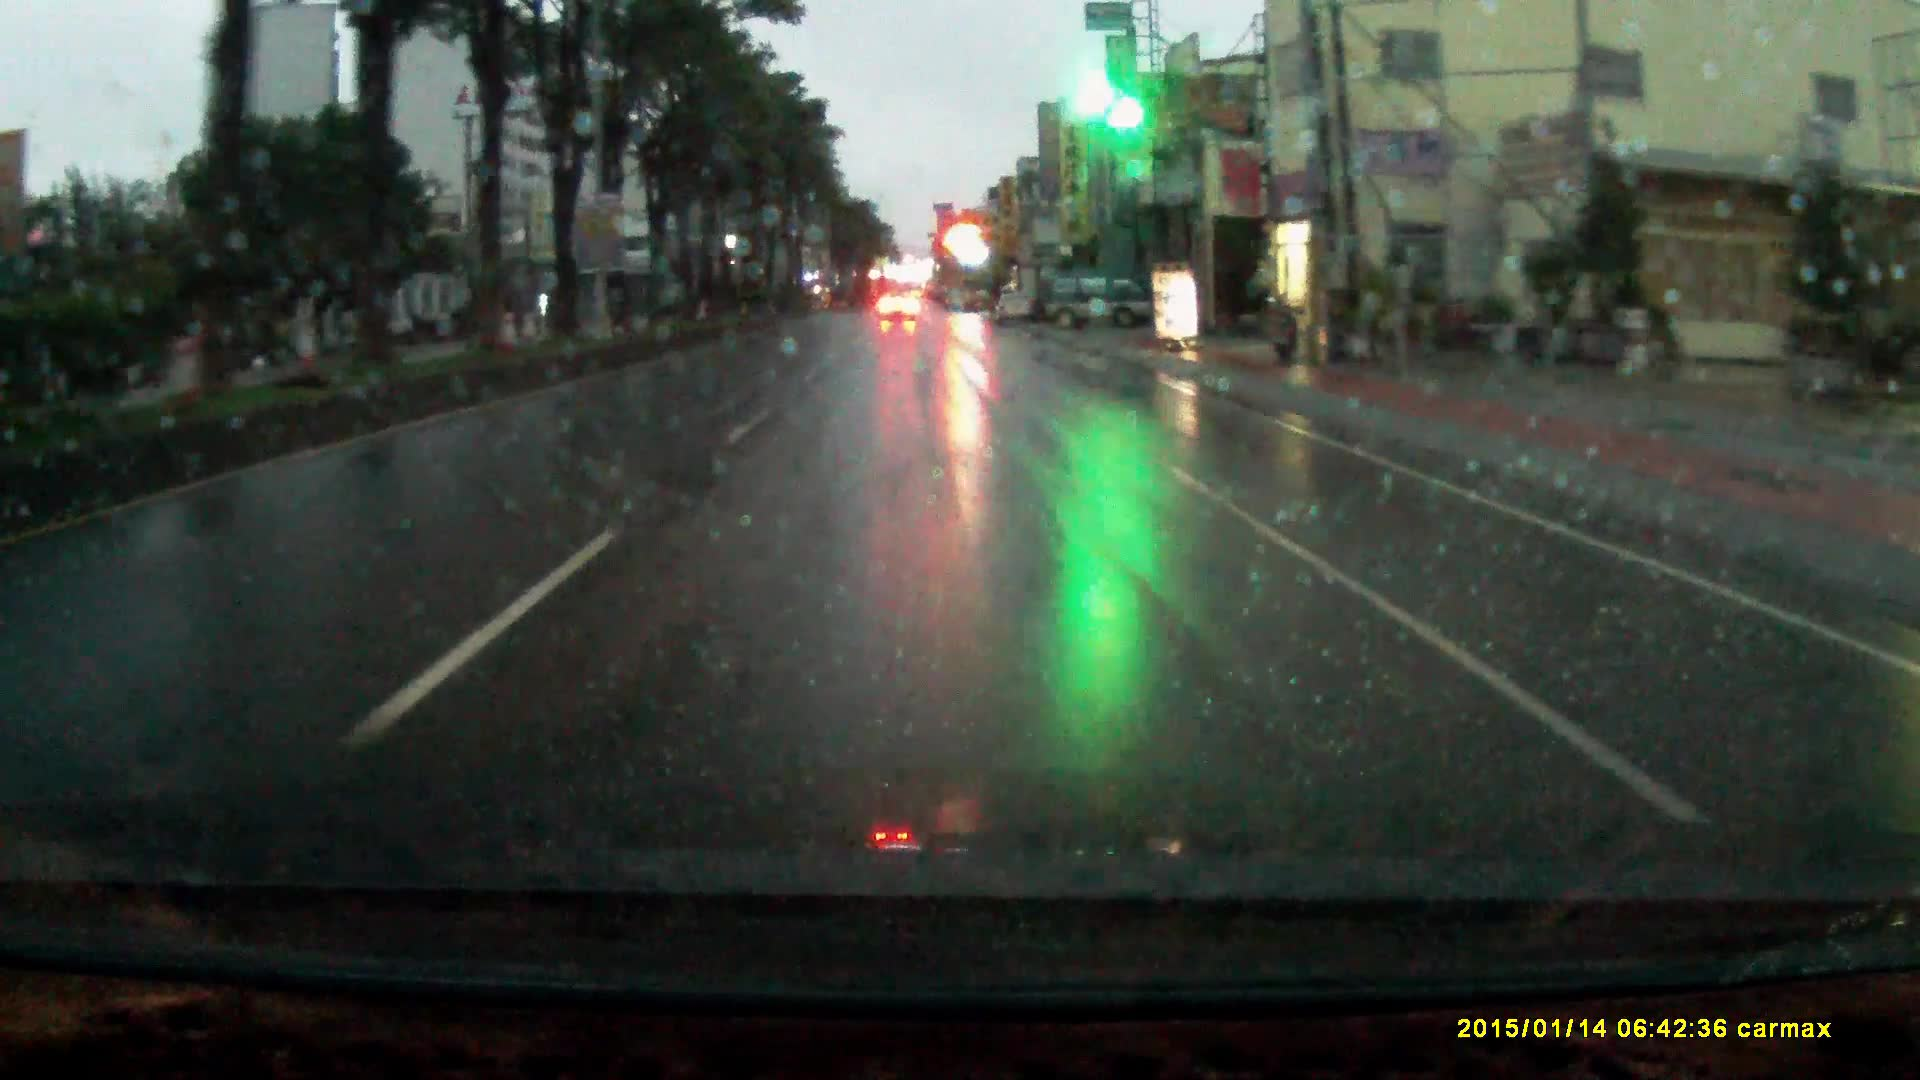vehicle: (1044, 268, 1153, 328), (994, 290, 1036, 326), (877, 290, 922, 323)
